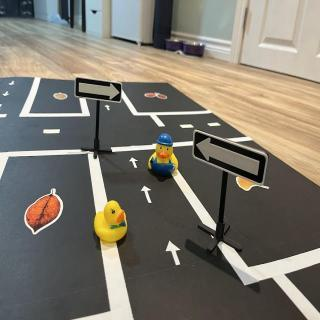duck_regular: (95, 202, 129, 244)
duck_specialty: (148, 135, 180, 183)
road_oneway: (165, 240, 183, 268), (141, 184, 156, 207), (127, 155, 139, 171), (104, 105, 114, 113), (9, 79, 17, 87), (3, 90, 11, 98)
sign_oneway_left: (193, 131, 269, 187)
sign_oneway_right: (75, 80, 123, 105)
